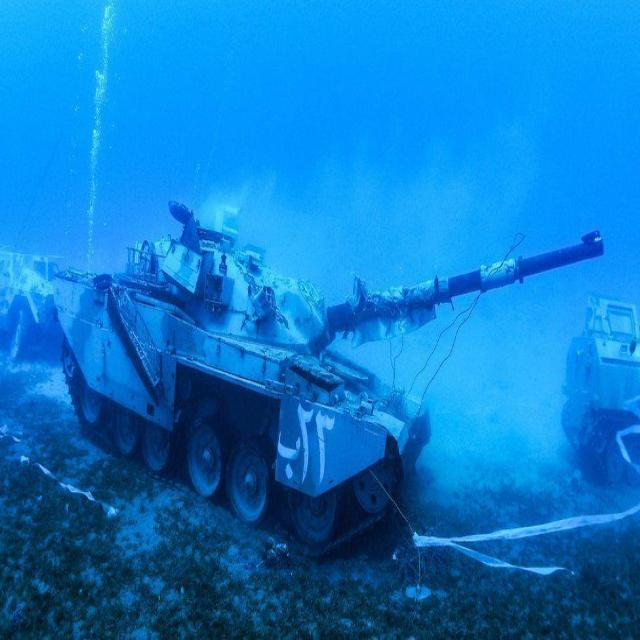Tanks: (50, 206, 448, 524)
